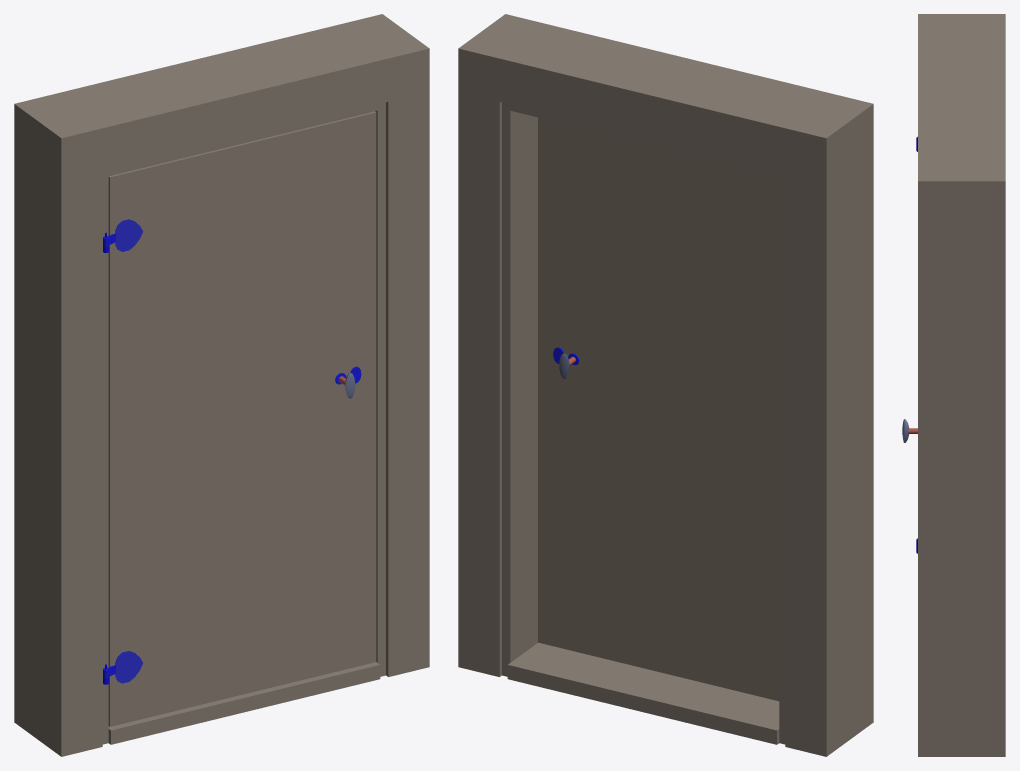
Rendered from door1.fbx.
3 renders of one model, left to right at view 1: azimuth 30°, elevation 25°; view 2: azimuth 150°, elevation 25°; view 3: azimuth 270°, elevation 25°, orthographic. The views are drawn at different scales.
Parts seen in each view (by area): view 1: door1_door, door1_frame; view 2: door1_frame, door1_door; view 3: door1_frame.
Boxes of the visible parts, x1,y1,x2,y2 form: door1_door: [103, 111, 376, 726]; door1_frame: [14, 14, 429, 756]; door1_frame: [458, 14, 873, 756]; door1_door: [538, 117, 779, 701]; door1_frame: [916, 14, 1005, 756].
Size of the model in its own units: 134 by 215 by 35.04.
